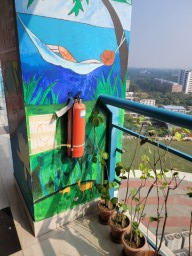fire_extinguisher: (72, 141, 119, 168)
